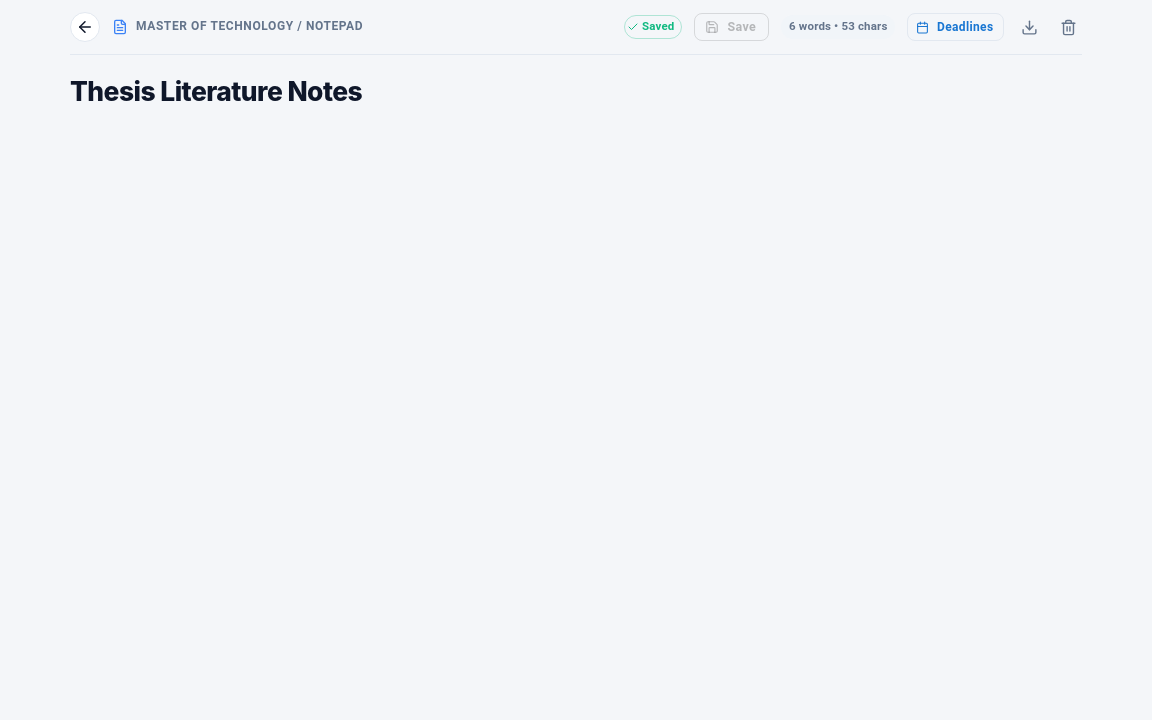
CourseNotepadView › shows delete confirmation dialog on delete button click
Click the button named "delete note" at (1068, 27), box [1055,14,1082,40]
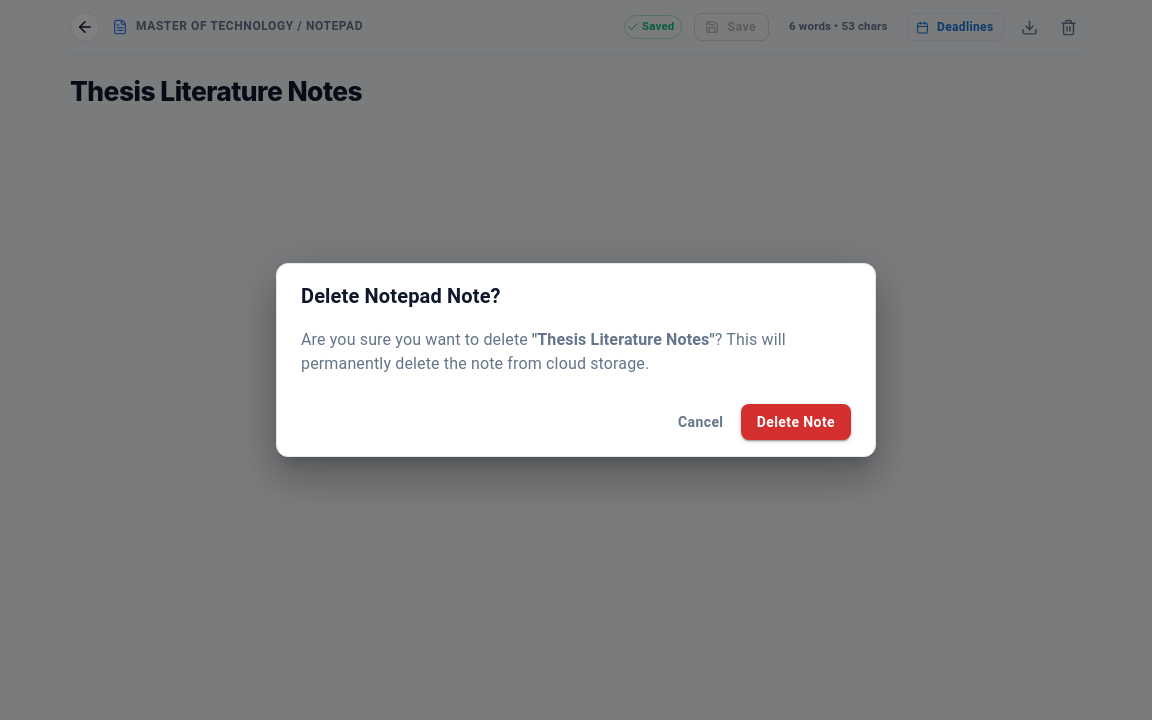
Expected: the heading "Delete Notepad Note?" is shown, [301,284,501,308]
